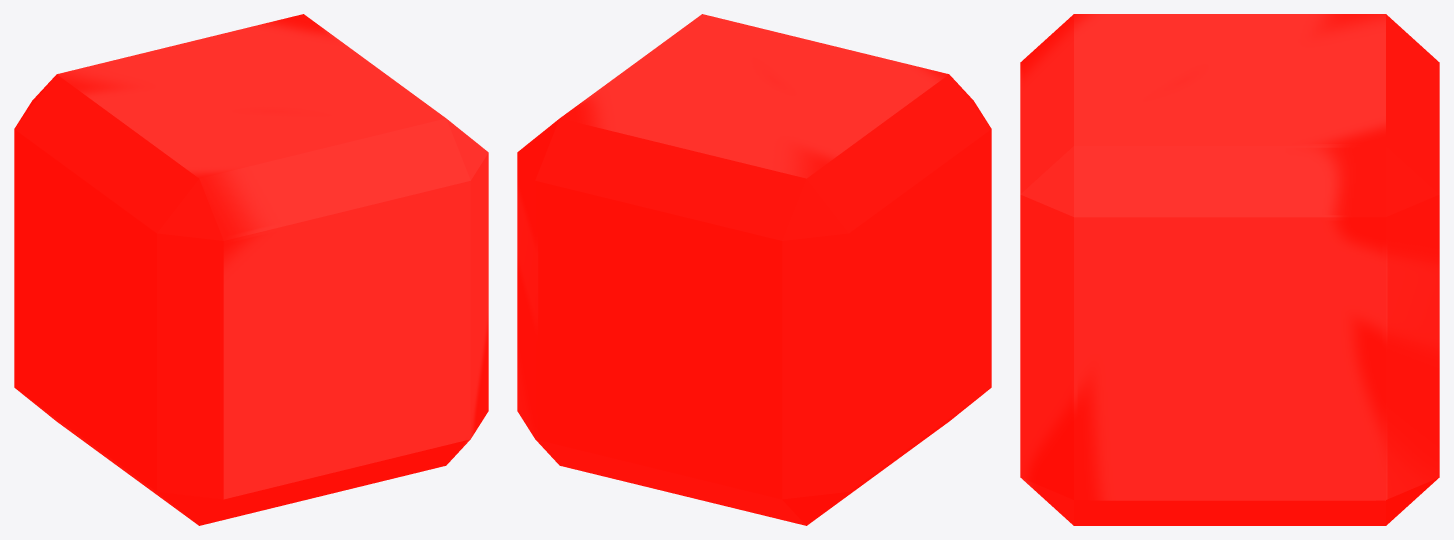
The model's file is redCube.glb.
3 renders of one model, left to right at view 1: azimuth 30°, elevation 25°; view 2: azimuth 150°, elevation 25°; view 3: azimuth 270°, elevation 25°, orthographic. The views are drawn at different scales.
Parts seen in each view (by area): view 1: Cube.001; view 2: Cube.001; view 3: Cube.001.
Part boxes in pixels (left/top/right/bottom): Cube.001: left=14, top=14, right=488, bottom=525; Cube.001: left=517, top=14, right=991, bottom=525; Cube.001: left=1020, top=14, right=1439, bottom=525.
Size of the model in its own units: 2 by 2 by 2.
1 material, 1 textured.
